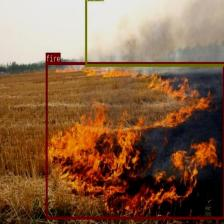fire: (45, 62, 224, 218)
smoke: (84, 0, 223, 65)
